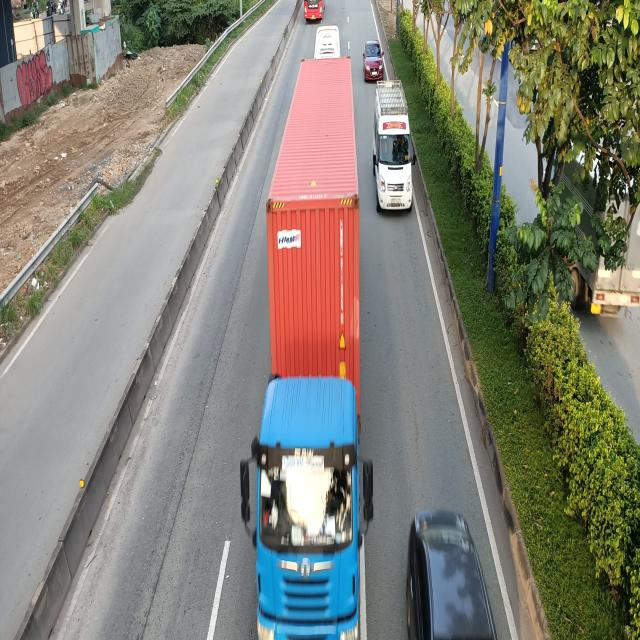car: (404, 508, 508, 638), (364, 41, 386, 83)
container: (240, 59, 372, 640)
van: (370, 81, 414, 213)
